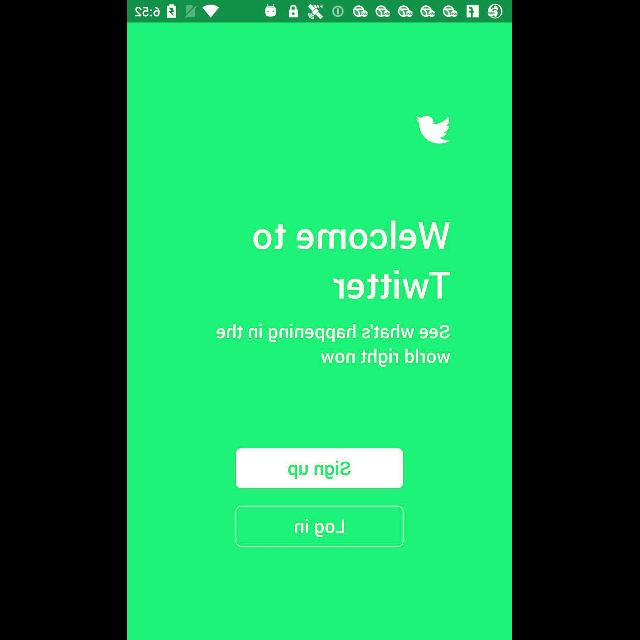icon: (416, 116, 452, 144)
text: (253, 220, 451, 300), (216, 323, 452, 367)
textbutton: (236, 506, 404, 546), (236, 448, 404, 488)
uppertaskbar: (128, 1, 512, 23)
